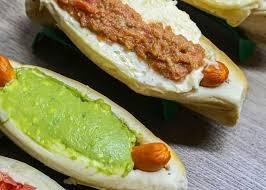Completos: (0, 51, 188, 189)
